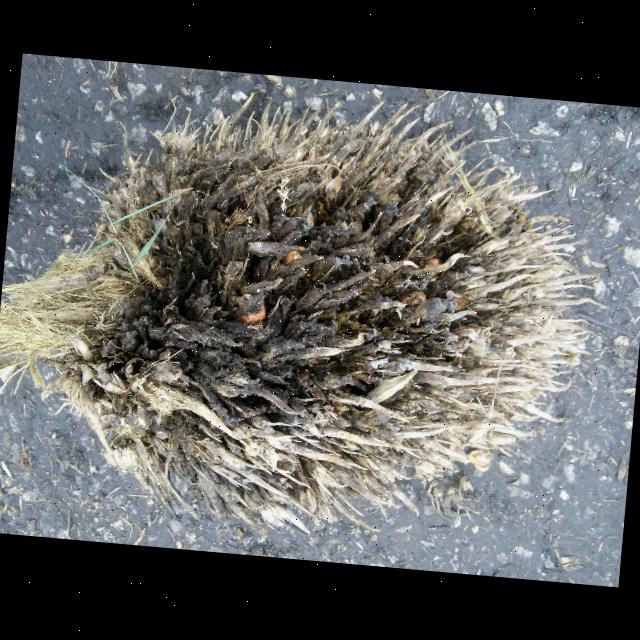Empty: (71, 125, 548, 507)
